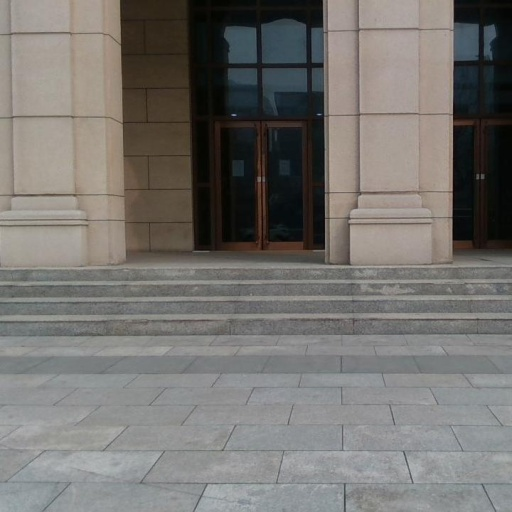Stairs: (2, 266, 512, 373)
